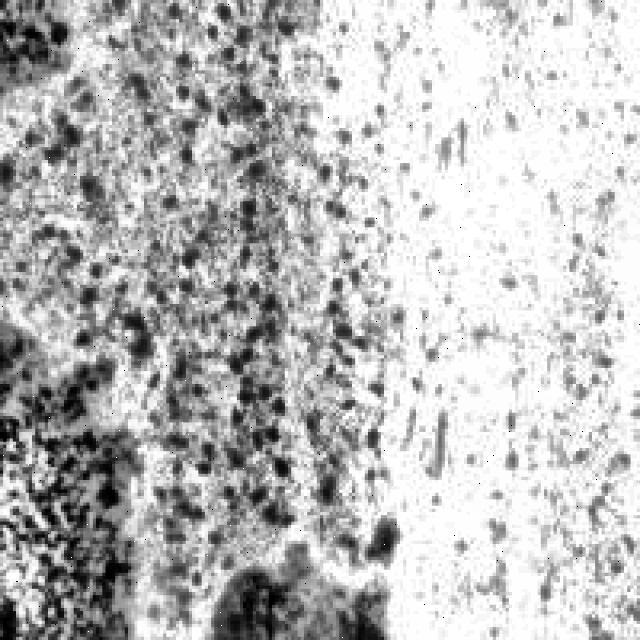Rolled_in_Scale: (154, 0, 401, 550), (3, 330, 147, 630), (202, 560, 396, 637), (3, 0, 106, 93)
